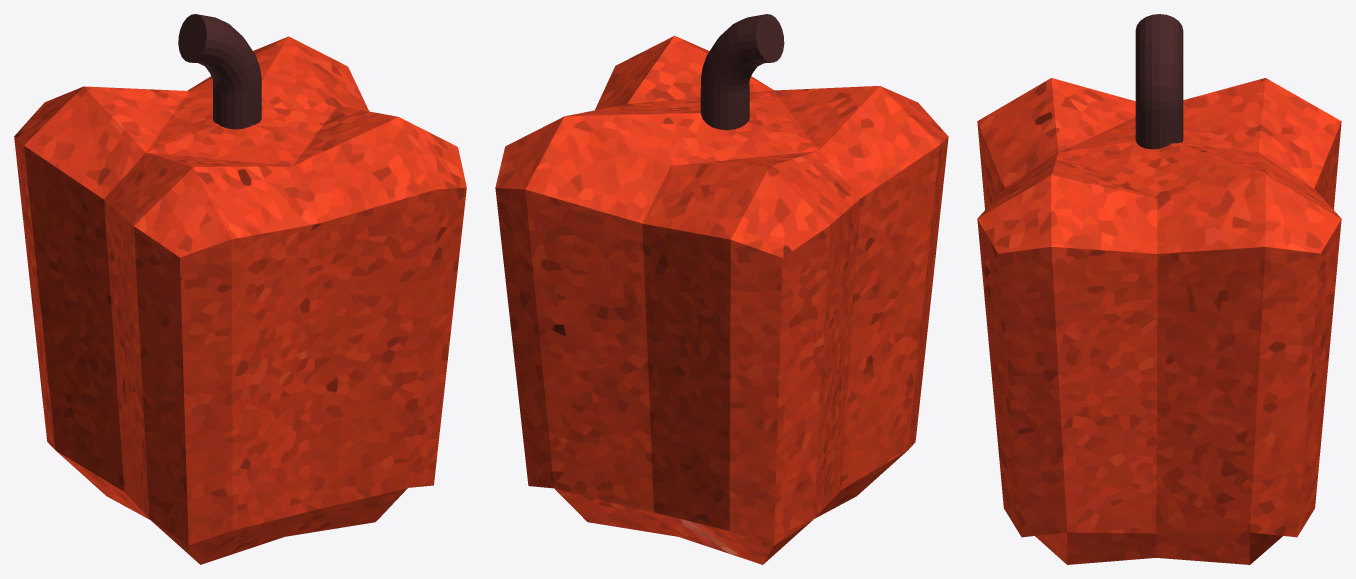
The model's file is redpepper.fbx.
3 views of the same model, side by side, from view 1: azimuth 30°, elevation 25°; view 2: azimuth 150°, elevation 25°; view 3: azimuth 270°, elevation 25° (orthographic). The views are drawn at different scales.
Visible parts, largest first — view 1: pCube2; view 2: pCube2; view 3: pCube2.
Boxes of the visible parts, <box> form: pCube2: <box>14,14,466,564</box>; pCube2: <box>495,14,948,564</box>; pCube2: <box>977,14,1341,564</box>.
Size of the model in its own units: 1.87 by 2.78 by 1.87.
2 materials, 1 textured.
